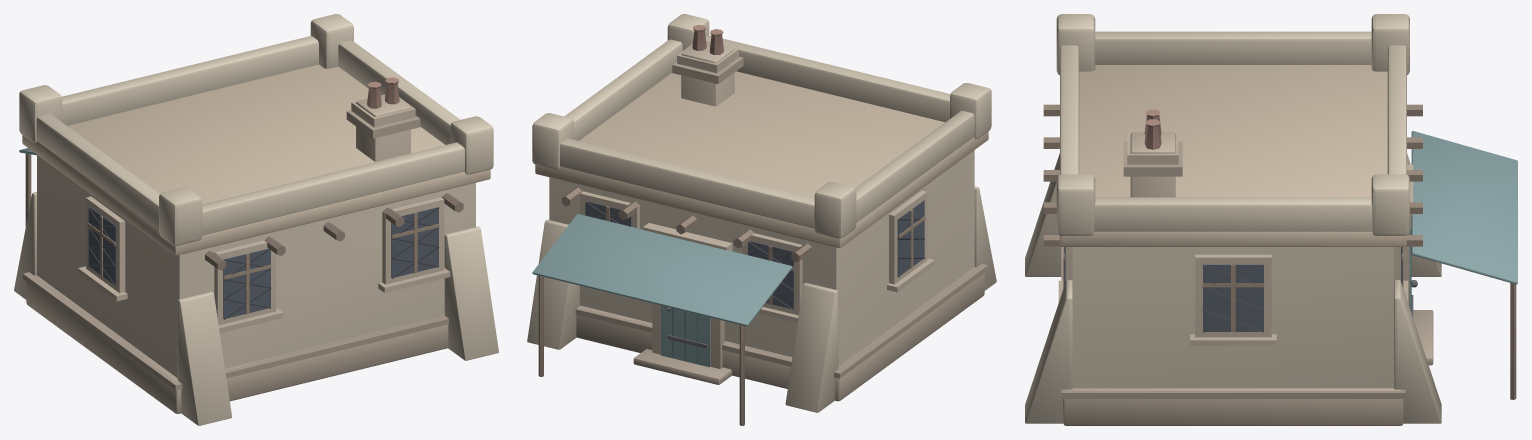
Rendered from cottage_sun.gltf.
3 renders of one model, left to right at view 1: azimuth 30°, elevation 25°; view 2: azimuth 150°, elevation 25°; view 3: azimuth 270°, elevation 25°, orthographic. The views are drawn at different scales.
Parts seen in each view (by area): view 1: Body; view 2: Body; view 3: Body.
Boxes of the visible parts, left/top/right/bottom form: Body: left=14, top=14, right=498, bottom=425; Body: left=527, top=14, right=996, bottom=425; Body: left=1025, top=14, right=1517, bottom=425.
Bounding box in the file's own units: 6.5 × 4.71 × 7.67.
